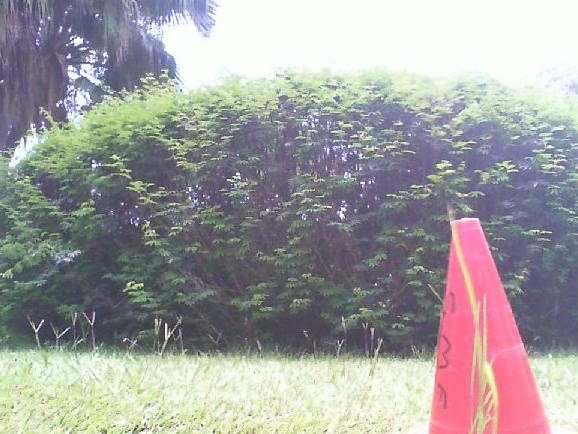0 cone: (405, 218, 578, 434)
